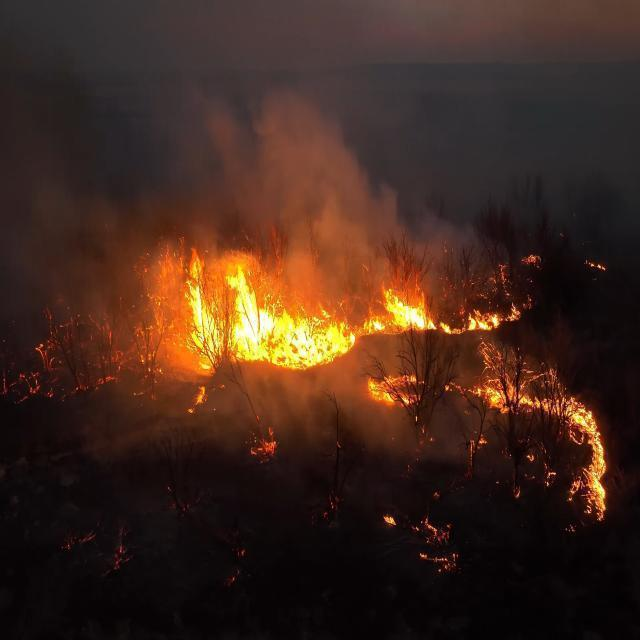Fire: (188, 262, 358, 363), (362, 275, 436, 340)
Smoke: (220, 57, 379, 275), (0, 23, 123, 303)
